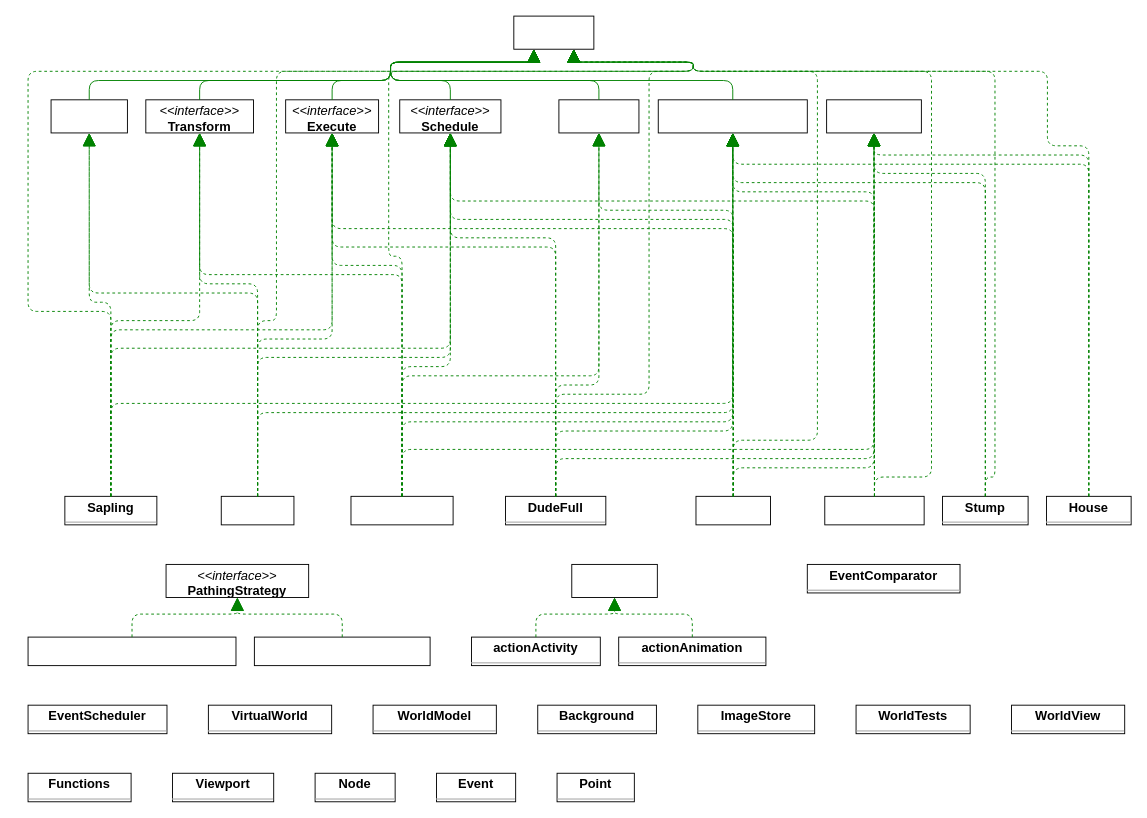
This 1147x818 diagram has some shape labels left out. Here are the shapes that lost their labels. From the top down, the centre of each, then its label:
At point (553, 32): "<<interface>> Entity".
At point (88, 116): "<<interface>> Plant".
At point (598, 116): "<<interface>> Move".
At point (732, 116): "<<interface>> AnimationPeriod".
At point (873, 116): "<<interface>> Position".
At point (257, 510): "Tree".
At point (401, 510): "DudeNot".
At point (732, 510): "Fairy".
At point (874, 510): "Obstacle".
At point (614, 581): "<<interface>> Action".
At point (131, 651): "SingleStepPathingStrategy".
At point (341, 651): "AStarPathingStrategy".
